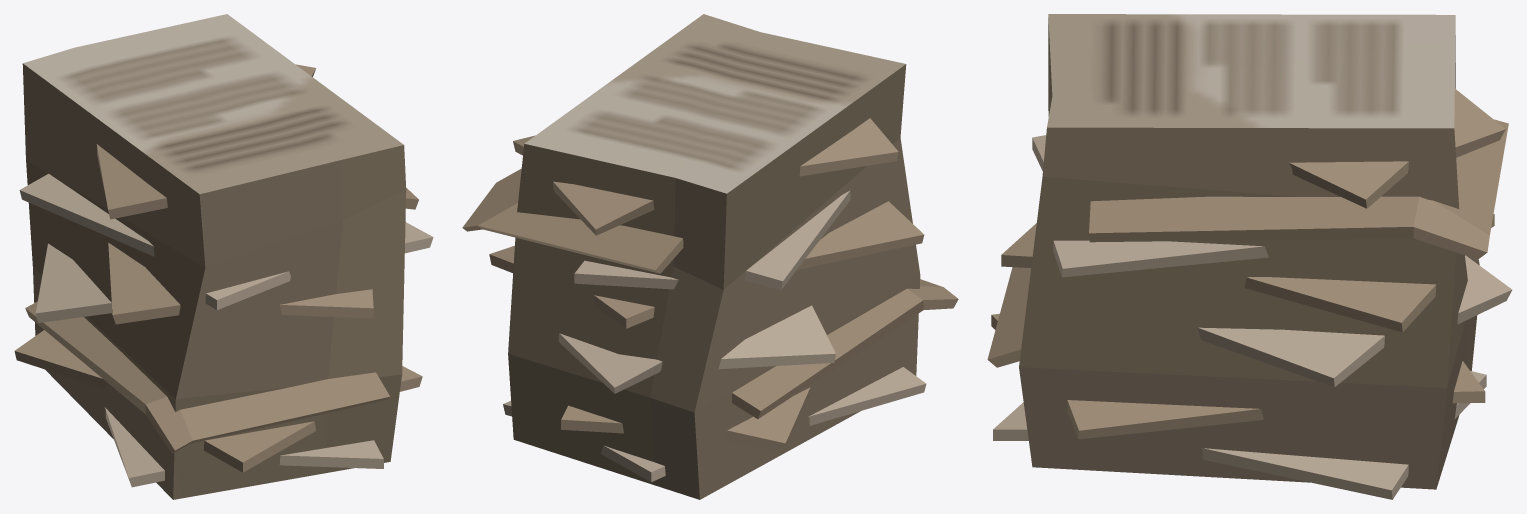
File: SM_Prop_Paper_Stack_02.fbx
3 views of the same model, side by side, from view 1: azimuth 30°, elevation 25°; view 2: azimuth 150°, elevation 25°; view 3: azimuth 270°, elevation 25° (orthographic). The views are drawn at different scales.
Parts seen in each view (by area): view 1: SM_Prop_Paper_Stack_02; view 2: SM_Prop_Paper_Stack_02; view 3: SM_Prop_Paper_Stack_02.
Part boxes in pixels (x1=…): SM_Prop_Paper_Stack_02: x1=14, y1=14, x2=433, y2=499; SM_Prop_Paper_Stack_02: x1=462, y1=14, x2=958, y2=499; SM_Prop_Paper_Stack_02: x1=987, y1=14, x2=1512, y2=499.
Bounding box in the file's own units: 34.82 × 32.37 × 43.46.
Materials: 1 (1 with a texture image).
